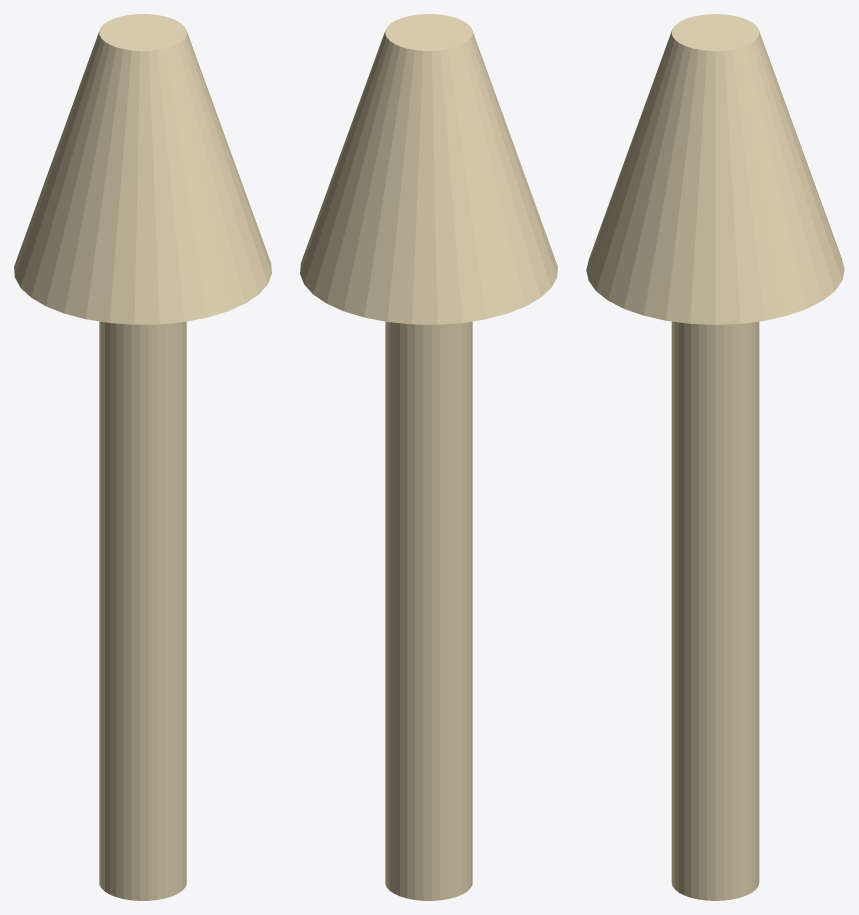
File: Lamp.fbx
The picture shows the model from 3 angles, left to right: view 1: azimuth 30°, elevation 25°; view 2: azimuth 150°, elevation 25°; view 3: azimuth 270°, elevation 25°; orthographic projection.
Parts seen in each view (by area): view 1: Lamp; view 2: Lamp; view 3: Lamp.
Part boxes in pixels (<box>): Lamp: <box>14,14,271,900</box>; Lamp: <box>300,14,557,900</box>; Lamp: <box>586,14,844,900</box>.
Bounding box in the file's own units: 80.01 × 290 × 80.01.
